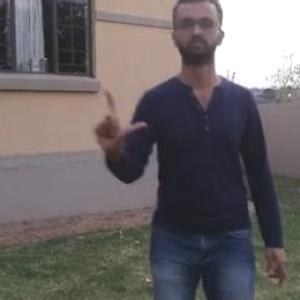land_hand: (89, 82, 151, 151)
